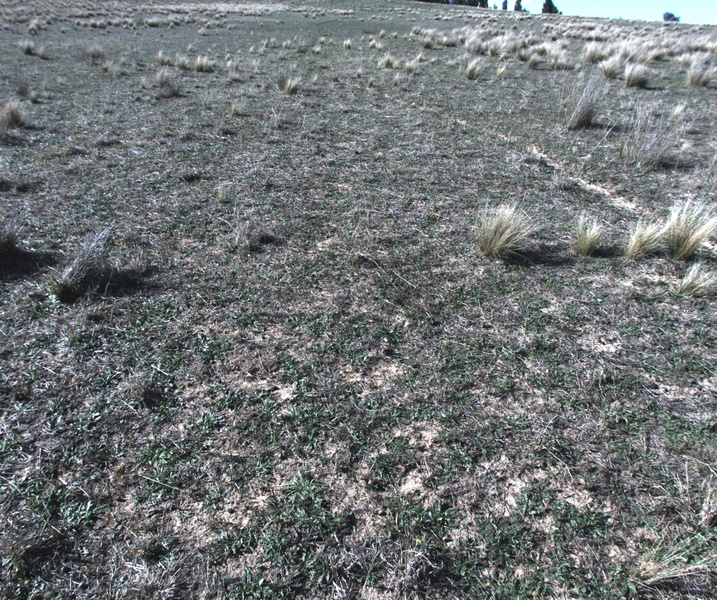st: (467, 206, 539, 266), (636, 543, 717, 588), (665, 197, 709, 257), (569, 210, 613, 260), (630, 214, 660, 265), (675, 263, 717, 297), (684, 56, 714, 94), (622, 63, 655, 94), (1, 99, 23, 135), (598, 56, 625, 76), (99, 58, 125, 78), (462, 57, 485, 79), (552, 57, 584, 72), (493, 59, 510, 85), (404, 54, 422, 78), (588, 42, 608, 63), (150, 47, 169, 69), (194, 56, 216, 75), (170, 49, 189, 70), (284, 78, 306, 96), (377, 54, 397, 73), (152, 66, 170, 87), (227, 58, 241, 85), (527, 54, 542, 75), (13, 37, 31, 54), (34, 47, 50, 63), (416, 48, 428, 66), (341, 37, 355, 50), (311, 43, 322, 56), (354, 67, 364, 81), (370, 75, 375, 84)
